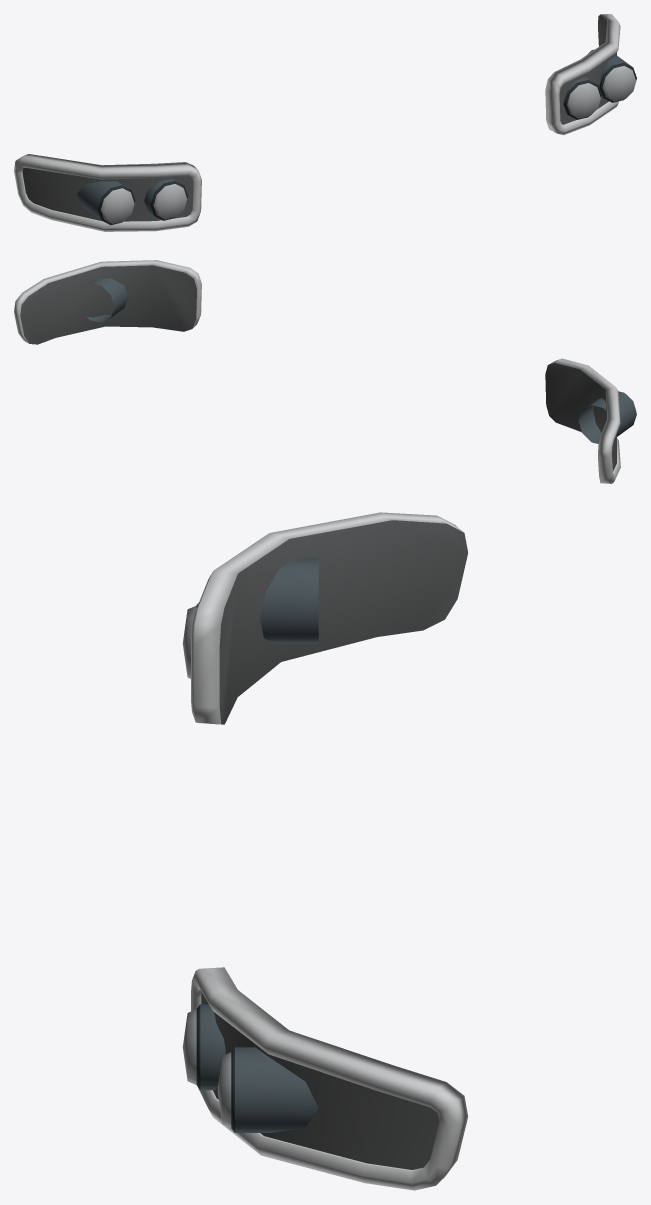
File: Car_13_Headlight_Simple.fbx
3 views of the same model, one above another, from view 1: azimuth 30°, elevation 25°; view 2: azimuth 150°, elevation 25°; view 3: azimuth 270°, elevation 25° (orthographic). The views are drawn at different scales.
Parts seen in each view (by area): view 1: Car_13_Headlight_Simple; view 2: Car_13_Headlight_Simple; view 3: Car_13_Headlight_Simple.
Boxes of the visible parts, <box> form: Car_13_Headlight_Simple: <box>14,14,636,231</box>; Car_13_Headlight_Simple: <box>14,260,636,483</box>; Car_13_Headlight_Simple: <box>182,512,468,1190</box>.
Size of the model in its own units: 154 by 32.02 by 15.48.
